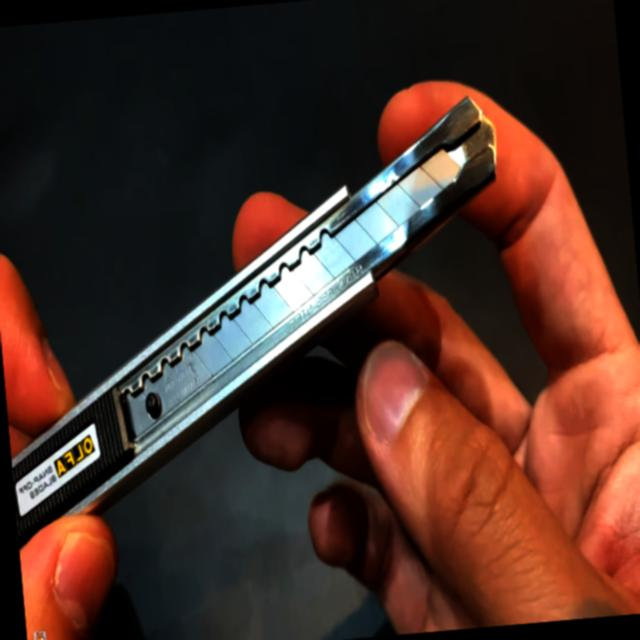cutter: (0, 9, 614, 637)
